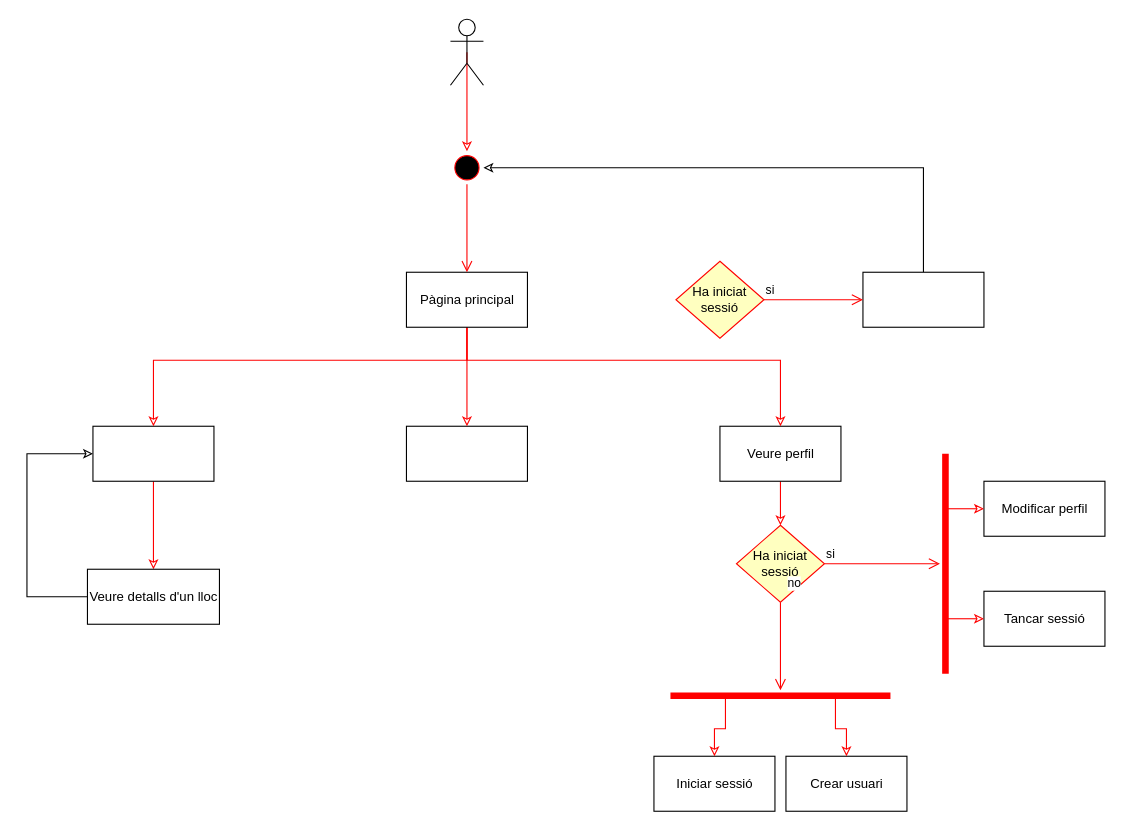
Some shapes in this 1124 by 831 pixel diagram are drawn without their labels. The box of each missing label's shape, as (x1, y1, x2, y2) in pixels:
Penjar un lloc: (862, 271, 984, 327)
Usuari: (449, 18, 483, 85)
Veure llista de llocs: (92, 425, 214, 481)
Veure mapa de llocs: (405, 425, 527, 481)
